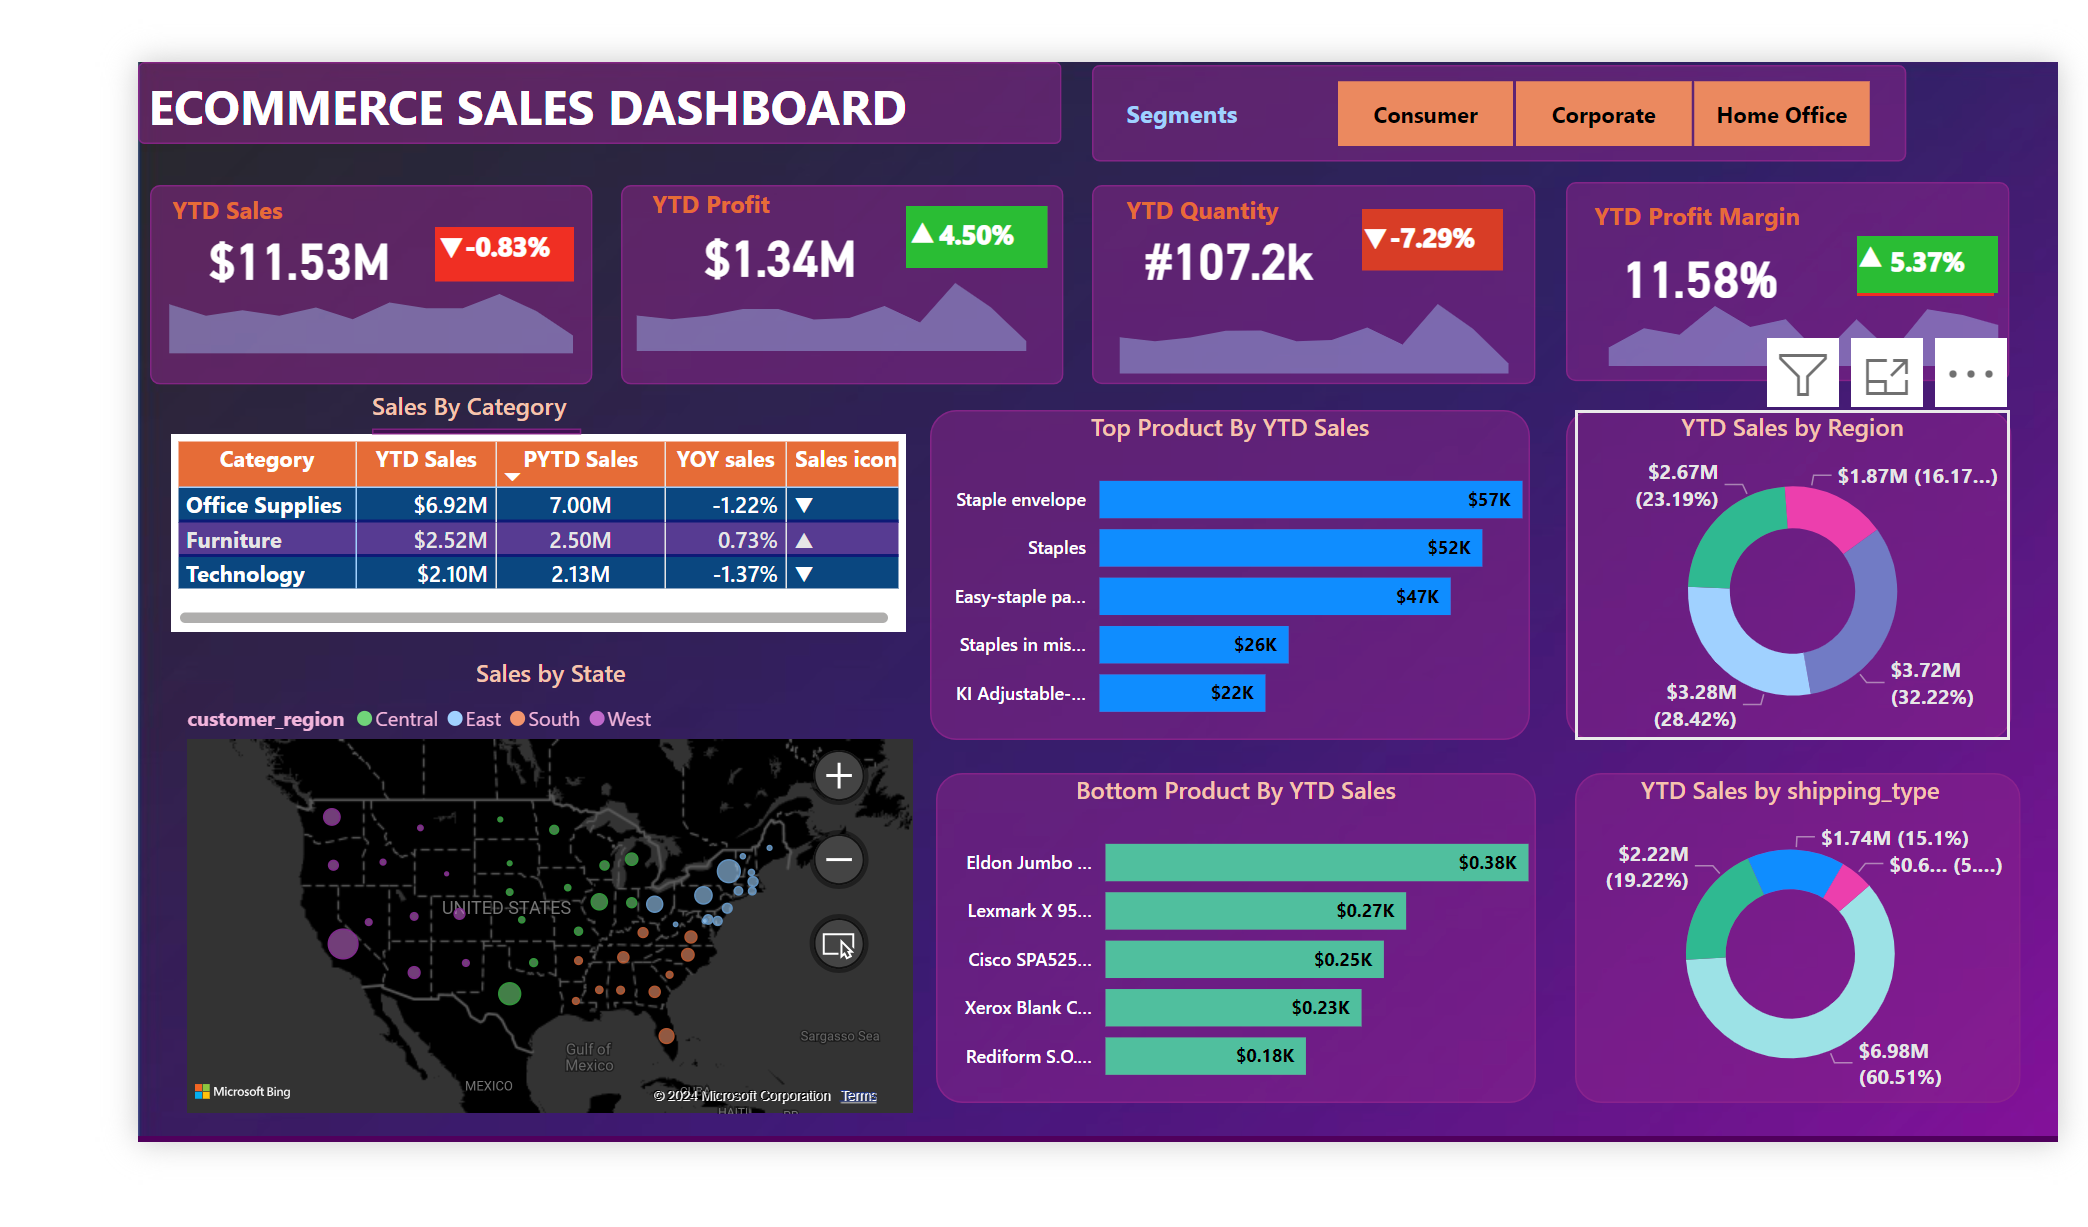

This screenshot's page, from the dashboard's own definition file:
{"tool":"powerbi","page":{"name":"Page 1","canvas":[1280,720],"ordinal":0},"visuals":[{"type":"shape","box":[0,0,615.7,54.6],"z":0},{"type":"textbox","box":[1.4,1.4,615.7,52.9],"z":1000},{"type":"shape","box":[8.8,81.2,295,133],"z":2000},{"type":"card","fields":{"Values":["ecommerce_data.YTD"]},"box":[18.2,104.6,179,53.1],"z":3000},{"type":"shape","box":[197.2,109.2,92.5,36.4],"z":4000},{"type":"areaChart","fields":{"Category":["calender.Month"],"Y":["Sum(ecommerce_data.sales_per_order)"]},"box":[6.1,135,298.8,65.2],"z":5000},{"type":"card","fields":{"Values":["ecommerce_data.YOY sales"]},"box":[197.2,104.6,97.1,40.9],"z":6000},{"type":"card","fields":{"Values":["ecommerce_data.Sales icon"]},"box":[183.5,109.2,50,30.3],"z":7000},{"type":"textbox","box":[18.6,81.4,102.9,34.3],"z":8000},{"type":"shape","box":[321.4,81.4,295,133],"z":9000},{"type":"card","fields":{"Values":["ecommerce_data.YTD Profit"]},"box":[338.6,102.9,180,52.9],"z":10000},{"type":"shape","box":[511.4,98.6,92.9,37.1],"z":11000},{"type":"card","fields":{"Values":["ecommerce_data.YOY Profit"]},"box":[511.4,95.7,94.3,41.4],"z":12000},{"type":"card","fields":{"Values":["ecommerce_data.Profit icon"]},"box":[497.1,100,50,30],"z":13000},{"type":"areaChart","fields":{"Category":["calender.Month"],"Y":["Sum(ecommerce_data.profit_per_order)"]},"box":[317.1,131.4,288.6,65.7],"z":14000},{"type":"shape","box":[951.4,80,295.7,132.9],"z":15000},{"type":"card","fields":{"Values":["ecommerce_data.YTD Profit Margin"]},"box":[951.4,115.7,178.6,52.9],"z":16000},{"type":"shape","box":[1145.7,115.7,91.4,40],"z":17000},{"type":"card","fields":{"Values":["ecommerce_data.YOY Profit Margin"]},"box":[1145,115.3,94,37.9],"z":18000},{"type":"card","fields":{"Values":["ecommerce_data.Profit Margin icon"]},"box":[1129.9,116.8,50,30.3],"z":19000},{"type":"areaChart","fields":{"Category":["calender.Month"],"Y":["ecommerce_data.Profit margin"]},"box":[965.7,142.9,288.6,65.7],"z":20000},{"type":"textbox","box":[338.6,78.6,102.9,34.3],"z":21000},{"type":"shape","box":[636.2,82.4,295.7,132.9],"z":22000},{"type":"card","fields":{"Values":["ecommerce_data.YTD conacatenated"]},"box":[637.1,104.3,178.6,52.9],"z":23000},{"type":"shape","box":[815.9,98.6,91,39.4],"z":24000},{"type":"textbox","box":[654.3,82.9,145.7,34.3],"z":25000},{"type":"areaChart","fields":{"Category":["calender.Month"],"Y":["Sum(ecommerce_data.profit_per_order)"]},"box":[640,145.6,288.2,66.7],"z":26000},{"type":"textbox","box":[966.1,86.4,163.8,34.9],"z":27000},{"type":"card","fields":{"Values":["ecommerce_data.YOY QTY"]},"box":[815.9,98.6,94,40.9],"z":28000},{"type":"card","fields":{"Values":["ecommerce_data.QTY icon"]},"box":[799.2,104.6,50,30.3],"z":29000},{"type":"pivotTable","fields":{"Rows":["ecommerce_data.category_name"],"Values":["ecommerce_data.YTD Sales","ecommerce_data.PYTD Sales","ecommerce_data.YOY sales","ecommerce_data.Sales icon"]},"box":[21.2,248.7,489.9,131.9],"z":30000},{"type":"shape","title":"Sales By Category","box":[156.2,218.4,139.5,30.3],"z":31000},{"type":"map","title":" Sales by  State","fields":{"Y":["us_state_long_lat_codes.latitude"],"X":["us_state_long_lat_codes.longitude"],"Size":["ecommerce_data.YTD Sales"],"Series":["ecommerce_data.customer_region"]},"box":[28.6,395.7,494.3,310],"z":32000},{"type":"shape","box":[528.6,232.9,400,220],"z":33000},{"type":"shape","box":[531.4,474.3,400,220],"z":34000},{"type":"barChart","title":"Top Product By YTD Sales","fields":{"Category":["ecommerce_data.product_name"],"Y":["ecommerce_data.YTD Sales"]},"box":[527.1,232.9,400,220],"z":35000},{"type":"barChart","title":"Bottom Product By YTD Sales","fields":{"Category":["ecommerce_data.product_name"],"Y":["ecommerce_data.YTD Sales"]},"box":[531.4,474.3,400,220],"z":36000},{"type":"shape","box":[951.4,232.9,297.1,220],"z":37000},{"type":"shape","box":[957.1,474.3,297.1,220],"z":38000},{"type":"donutChart","title":"YTD Sales by Region","fields":{"Category":["ecommerce_data.customer_region"],"Y":["ecommerce_data.YTD Sales"]},"box":[957.1,232.9,290,220],"z":39000},{"type":"donutChart","fields":{"Category":["ecommerce_data.shipping_type"],"Y":["ecommerce_data.YTD Sales"]},"box":[957.1,474.3,287.1,220],"z":40000},{"type":"shape","box":[635.7,1.4,542.9,64.3],"z":41000},{"type":"slicer","fields":{"Values":["ecommerce_data.customer_segment"]},"box":[774.3,5.7,404.3,57.1],"z":42000},{"type":"textbox","box":[654.3,17.1,102.9,34.3],"z":43000}]}

Visuals, with their boxes on the page's 1280x720 design canvas (x1, y1, x2, y2). These are canvas units, not pixel positions in the 2088x1227 screenshot, which may show the page scaled, cropped or inside an application window:
shape: <region>0, 0, 616, 55</region>
textbox: <region>1, 1, 617, 54</region>
shape: <region>9, 81, 304, 214</region>
card - ecommerce_data.YTD: <region>18, 105, 197, 158</region>
shape: <region>197, 109, 290, 146</region>
areaChart - calender.Month x Sum(ecommerce_data.sales_per_order): <region>6, 135, 305, 200</region>
card - ecommerce_data.YOY sales: <region>197, 105, 294, 146</region>
card - ecommerce_data.Sales icon: <region>184, 109, 234, 140</region>
textbox: <region>19, 81, 122, 116</region>
shape: <region>321, 81, 616, 214</region>
card - ecommerce_data.YTD Profit: <region>339, 103, 519, 156</region>
shape: <region>511, 99, 604, 136</region>
card - ecommerce_data.YOY Profit: <region>511, 96, 606, 137</region>
card - ecommerce_data.Profit icon: <region>497, 100, 547, 130</region>
areaChart - calender.Month x Sum(ecommerce_data.profit_per_order): <region>317, 131, 606, 197</region>
shape: <region>951, 80, 1247, 213</region>
card - ecommerce_data.YTD Profit Margin: <region>951, 116, 1130, 169</region>
shape: <region>1146, 116, 1237, 156</region>
card - ecommerce_data.YOY Profit Margin: <region>1145, 115, 1239, 153</region>
card - ecommerce_data.Profit Margin icon: <region>1130, 117, 1180, 147</region>
areaChart - calender.Month x ecommerce_data.Profit margin: <region>966, 143, 1254, 209</region>
textbox: <region>339, 79, 442, 113</region>
shape: <region>636, 82, 932, 215</region>
card - ecommerce_data.YTD conacatenated: <region>637, 104, 816, 157</region>
shape: <region>816, 99, 907, 138</region>
textbox: <region>654, 83, 800, 117</region>
areaChart - calender.Month x Sum(ecommerce_data.profit_per_order): <region>640, 146, 928, 212</region>
textbox: <region>966, 86, 1130, 121</region>
card - ecommerce_data.YOY QTY: <region>816, 99, 910, 140</region>
card - ecommerce_data.QTY icon: <region>799, 105, 849, 135</region>
pivotTable - ecommerce_data.category_name x ecommerce_data.YTD Sales: <region>21, 249, 511, 381</region>
"Sales By Category" shape: <region>156, 218, 296, 249</region>
" Sales by  State" map: <region>29, 396, 523, 706</region>
shape: <region>529, 233, 929, 453</region>
shape: <region>531, 474, 931, 694</region>
"Top Product By YTD Sales" barChart: <region>527, 233, 927, 453</region>
"Bottom Product By YTD Sales" barChart: <region>531, 474, 931, 694</region>
shape: <region>951, 233, 1248, 453</region>
shape: <region>957, 474, 1254, 694</region>
"YTD Sales by Region" donutChart: <region>957, 233, 1247, 453</region>
donutChart - ecommerce_data.shipping_type x ecommerce_data.YTD Sales: <region>957, 474, 1244, 694</region>
shape: <region>636, 1, 1179, 66</region>
slicer - ecommerce_data.customer_segment: <region>774, 6, 1179, 63</region>
textbox: <region>654, 17, 757, 51</region>
